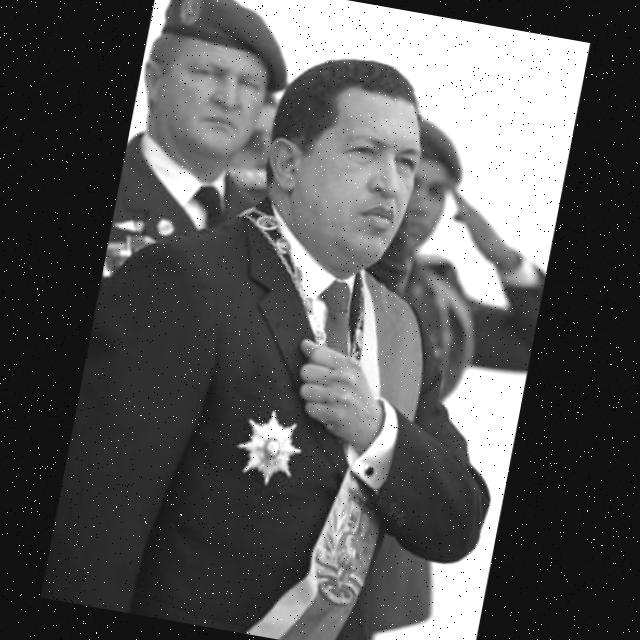face: (287, 83, 431, 254), (146, 30, 287, 180)
